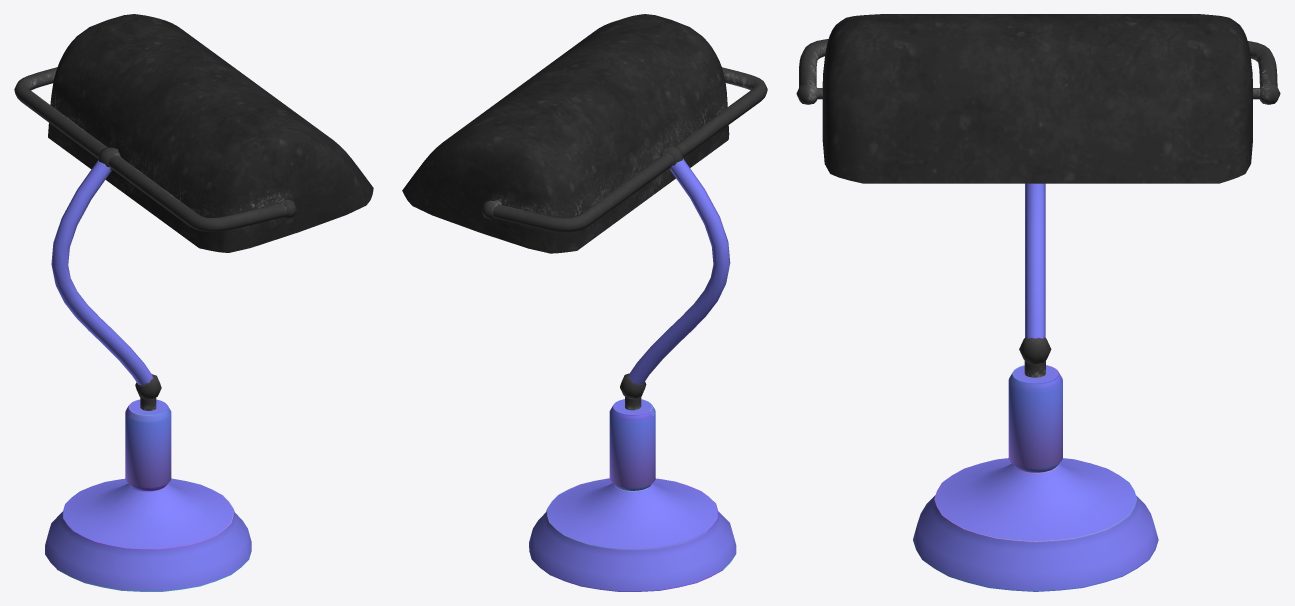
Rendered from lamp.fbx.
3 views of the same model, side by side, from view 1: azimuth 30°, elevation 25°; view 2: azimuth 150°, elevation 25°; view 3: azimuth 270°, elevation 25° (orthographic). The views are drawn at different scales.
Parts seen in each view (by area): view 1: desk_lamp; view 2: desk_lamp; view 3: desk_lamp.
Boxes of the visible parts, x1,y1,x2,y2 form: desk_lamp: [14, 14, 373, 591]; desk_lamp: [402, 14, 767, 591]; desk_lamp: [796, 14, 1280, 591].
Size of the model in its own units: 11.47 by 20.44 by 16.45.
